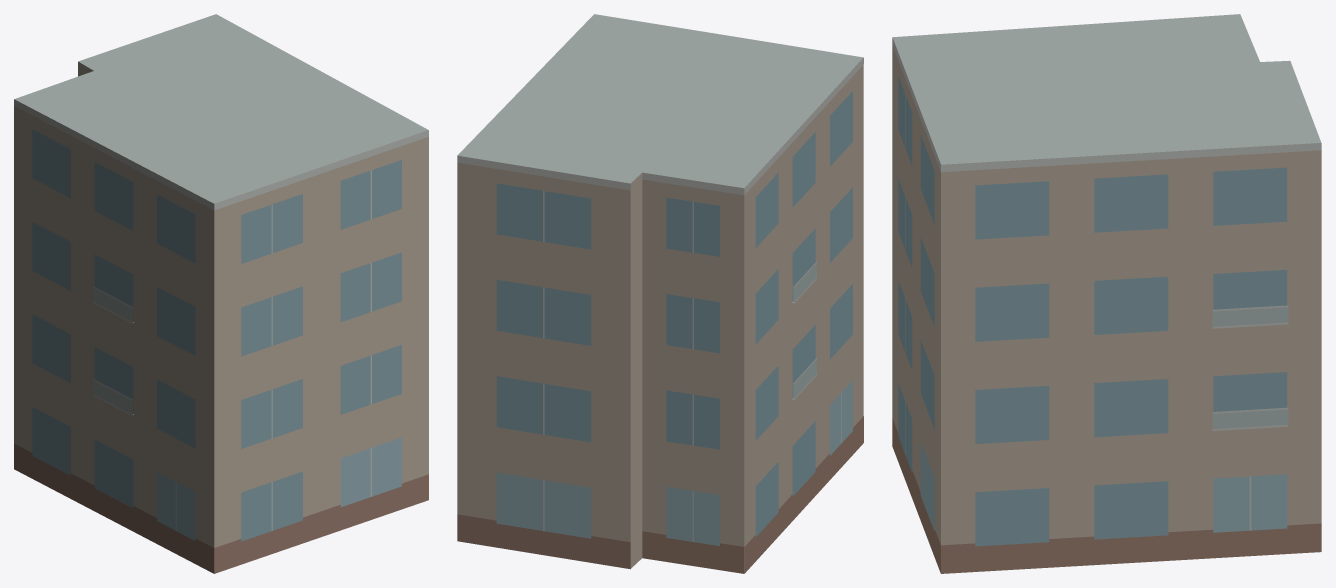
Rendered from survey-upis-32714283.glb.
The picture shows the model from 3 angles, left to right: view 1: azimuth 30°, elevation 25°; view 2: azimuth 150°, elevation 25°; view 3: azimuth 270°, elevation 25°; orthographic projection. The views are drawn at different scales.
Parts seen in each view (by area): view 1: survey-upis-32714283.tmp; view 2: survey-upis-32714283.tmp; view 3: survey-upis-32714283.tmp.
Part boxes in pixels (<box>): survey-upis-32714283.tmp: <box>14,14,428,573</box>; survey-upis-32714283.tmp: <box>457,14,863,573</box>; survey-upis-32714283.tmp: <box>892,14,1321,573</box>.
Bounding box in the file's own units: 10.68 × 13.5 × 12.84.
